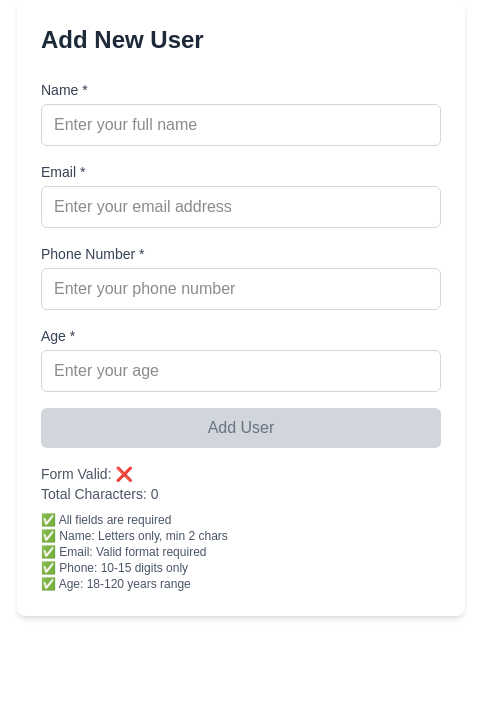
Test: UserForm Component - Working Tests Only › clears validation errors when user starts correcting input
Trigger validation error
Click the button "Add User".
click(241, 428)  # box [41,408,441,448]
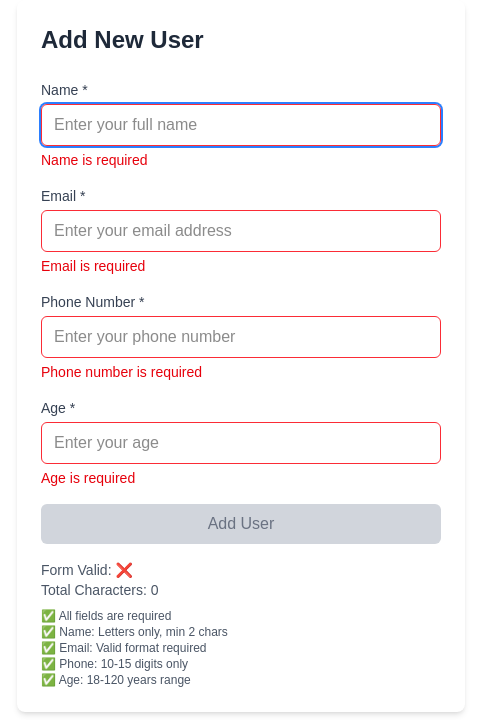
Check: the text "Name is required" is shown, box [41,152,148,168]
Start typing to clear error
Type "J" into the field labelled "Name *".
click(241, 125); type("J")  # box [41,104,441,146]
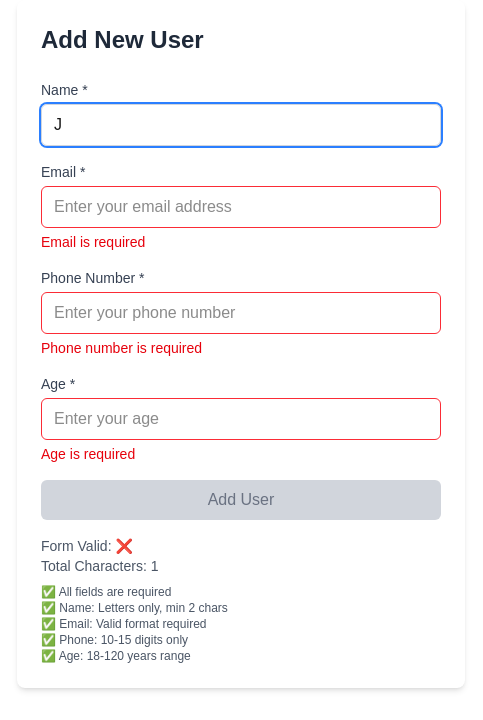
Check: the text "Name is required" is gone
